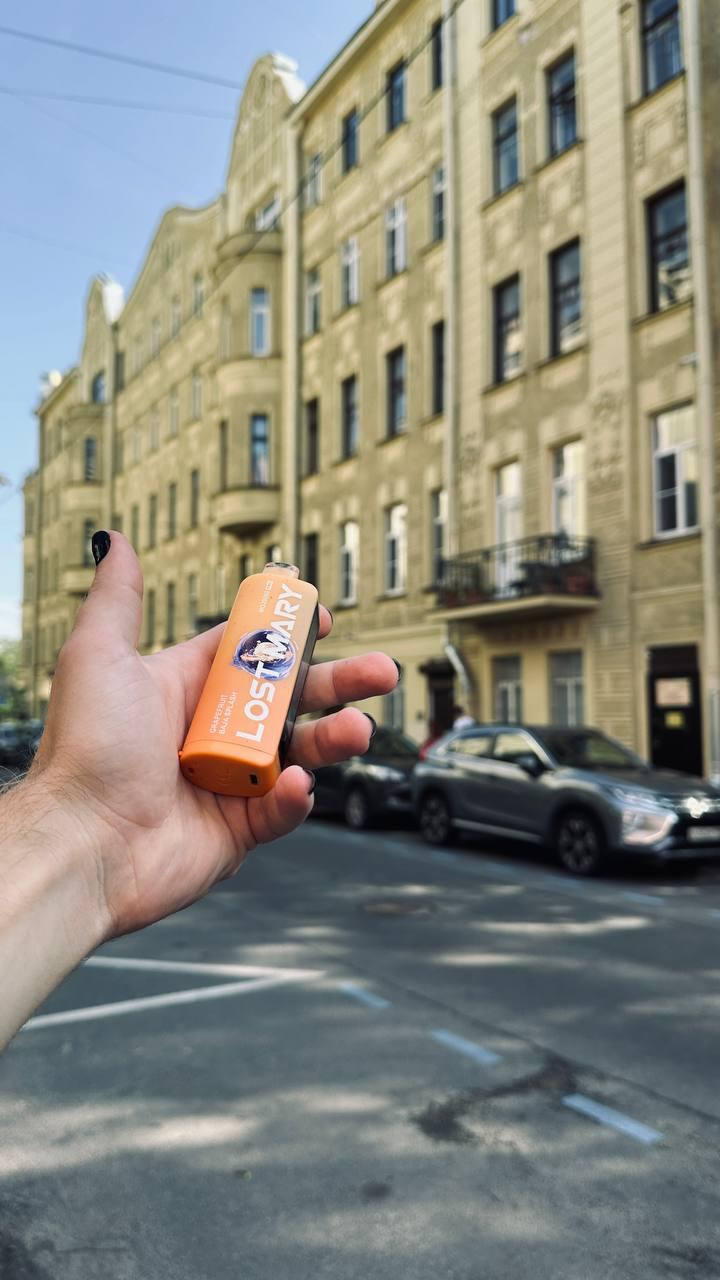Vape: (178, 565, 317, 797)
